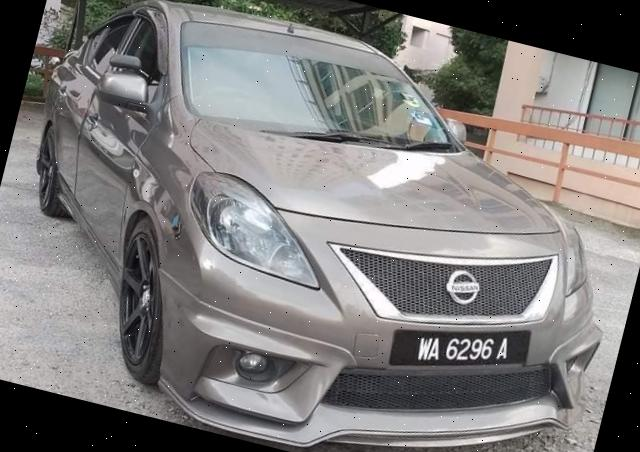License_Plate: (402, 305, 534, 396)
car: (1, 1, 640, 452)
